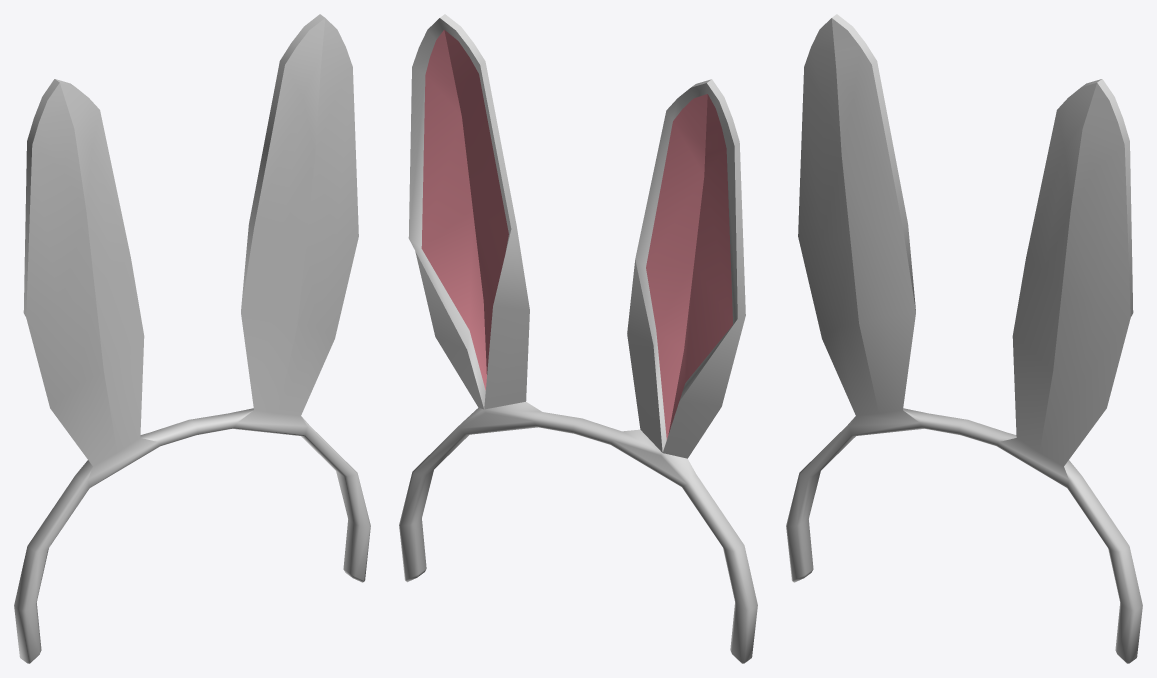
Rendered from bunny_ears_basic_white.glb.
3 renders of one model, left to right at view 1: azimuth 30°, elevation 25°; view 2: azimuth 150°, elevation 25°; view 3: azimuth 330°, elevation 25°, orthographic.
Visible parts, largest first — view 1: 0.034; view 2: 0.034, 1.028; view 3: 0.034.
Part boxes in pixels (<box>): 0.034: <box>14,14,370,663</box>; 0.034: <box>399,14,757,663</box>; 1.028: <box>421,29,732,439</box>; 0.034: <box>786,14,1142,663</box>.
Bounding box in the file's own units: 0.4866 × 0.7593 × 0.0326.
